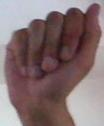A: (0, 1, 103, 126)
